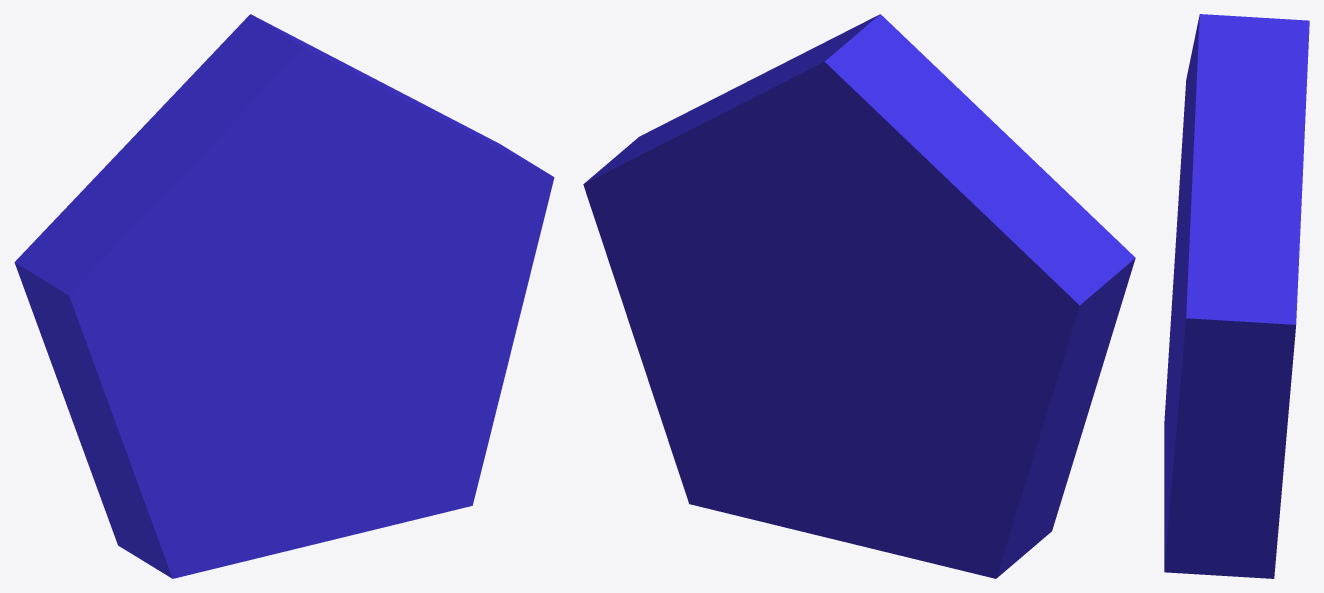
File: Hexagon.glb
3 views of the same model, side by side, from view 1: azimuth 30°, elevation 25°; view 2: azimuth 150°, elevation 25°; view 3: azimuth 270°, elevation 25° (orthographic). The views are drawn at different scales.
Visible parts, largest first — view 1: Circle.001; view 2: Circle.001; view 3: Circle.001.
Boxes of the visible parts, box(x1,y1,x2,y2) form: Circle.001: box(14, 14, 554, 578); Circle.001: box(583, 14, 1135, 578); Circle.001: box(1164, 14, 1309, 578).
Size of the model in its own units: 2.85 by 2.74 by 0.7368.
